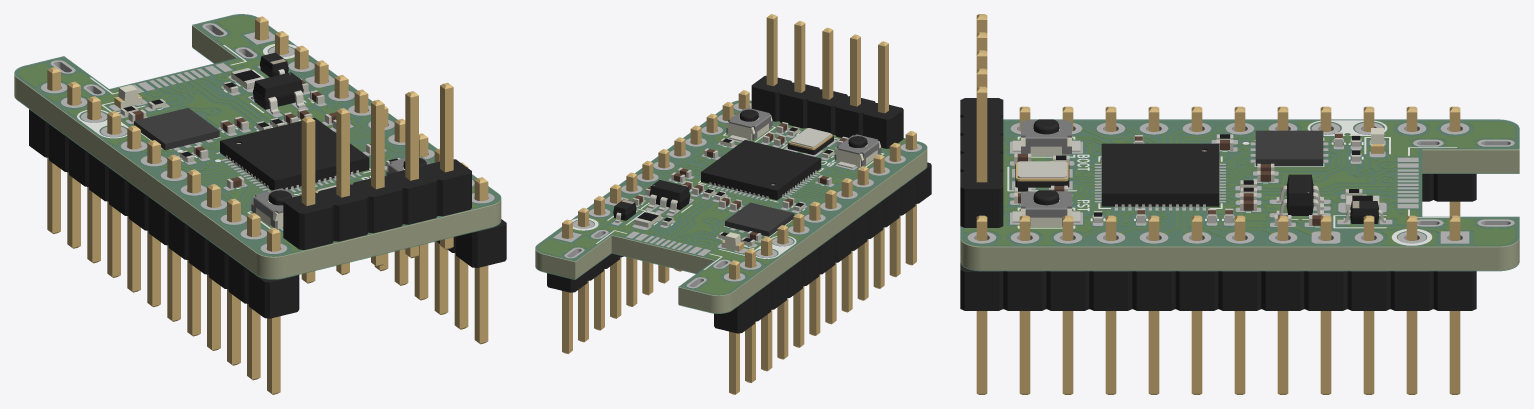
Rendered from board.glb.
The picture shows the model from 3 angles, left to right: view 1: azimuth 30°, elevation 25°; view 2: azimuth 150°, elevation 25°; view 3: azimuth 270°, elevation 25°; orthographic projection. The views are drawn at different scales.
Parts seen in each view (by area): view 1: PinHeader_1x12_P254mm_Vertical (×2), board_soldermask (×2), board_PCB, PinHeader_1x05_P254mm_Vertical, board_pad, QFN-56-1EP_7x7mm_P0.4mm_EP3.2x3.2mm, board_copper, Body, SOT-23-5, SW_SPST_B3U-1000P, board_silkscreen, D_SOD-323 (+1 smaller); view 2: PinHeader_1x12_P254mm_Vertical (×2), board_soldermask (×2), board_PCB, PinHeader_1x05_P254mm_Vertical, board_pad, QFN-56-1EP_7x7mm_P0.4mm_EP3.2x3.2mm, board_copper, SW_SPST_B3U-1000P (×2), Body, SOT-23-5, board_silkscreen, Crystal_SMD_3225-4Pin_3.2x2.5mm (+1 smaller); view 3: PinHeader_1x12_P254mm_Vertical (×2), board_soldermask (×2), board_PCB, board_pad, board_copper, QFN-56-1EP_7x7mm_P0.4mm_EP3.2x3.2mm, PinHeader_1x05_P254mm_Vertical, SW_SPST_B3U-1000P (×2), Body, board_silkscreen, SOT-23-5, Crystal_SMD_3225-4Pin_3.2x2.5mm (+1 smaller).
Part boxes in pixels (x1=…): PinHeader_1x12_P254mm_Vertical (×2): x1=29, y1=16, x2=506, y2=394; board_soldermask (×2): x1=14, y1=14, x2=501, y2=279; board_PCB: x1=14, y1=15, x2=501, y2=278; PinHeader_1x05_P254mm_Vertical: x1=283, y1=82, x2=471, y2=283; board_pad: x1=41, y1=23, x2=494, y2=253; QFN-56-1EP_7x7mm_P0.4mm_EP3.2x3.2mm: x1=220, y1=117, x2=369, y2=190; board_copper: x1=19, y1=16, x2=477, y2=251; Body: x1=134, y1=108, x2=219, y2=150; SOT-23-5: x1=251, y1=72, x2=305, y2=114; SW_SPST_B3U-1000P: x1=251, y1=188, x2=296, y2=228; board_silkscreen: x1=77, y1=44, x2=370, y2=230; D_SOD-323: x1=260, y1=52, x2=288, y2=77; PinHeader_1x12_P254mm_Vertical (×2): x1=547, y1=90, x2=931, y2=394; board_soldermask (×2): x1=535, y1=100, x2=927, y2=313; board_PCB: x1=535, y1=101, x2=927, y2=313; PinHeader_1x05_P254mm_Vertical: x1=751, y1=14, x2=903, y2=148; board_pad: x1=553, y1=103, x2=921, y2=288; QFN-56-1EP_7x7mm_P0.4mm_EP3.2x3.2mm: x1=701, y1=140, x2=821, y2=200; board_copper: x1=539, y1=111, x2=904, y2=293; SW_SPST_B3U-1000P (×2): x1=726, y1=108, x2=881, y2=168; Body: x1=725, y1=202, x2=794, y2=236; SOT-23-5: x1=648, y1=180, x2=691, y2=213; board_silkscreen: x1=571, y1=126, x2=884, y2=269; Crystal_SMD_3225-4Pin_3.2x2.5mm: x1=787, y1=128, x2=833, y2=154; PinHeader_1x12_P254mm_Vertical (×2): x1=960, y1=106, x2=1476, y2=394; board_soldermask (×2): x1=960, y1=119, x2=1519, y2=271; board_PCB: x1=960, y1=121, x2=1519, y2=270; board_pad: x1=967, y1=123, x2=1514, y2=243; board_copper: x1=965, y1=122, x2=1514, y2=244; QFN-56-1EP_7x7mm_P0.4mm_EP3.2x3.2mm: x1=1101, y1=143, x2=1219, y2=207; PinHeader_1x05_P254mm_Vertical: x1=960, y1=14, x2=1003, y2=227; SW_SPST_B3U-1000P (×2): x1=1012, y1=119, x2=1080, y2=226; Body: x1=1255, y1=130, x2=1323, y2=166; board_silkscreen: x1=1007, y1=120, x2=1456, y2=245; SOT-23-5: x1=1276, y1=174, x2=1323, y2=215; Crystal_SMD_3225-4Pin_3.2x2.5mm: x1=1015, y1=161, x2=1069, y2=187.
Size of the model in its own units: 0.0178 by 0.0188 by 0.033.
